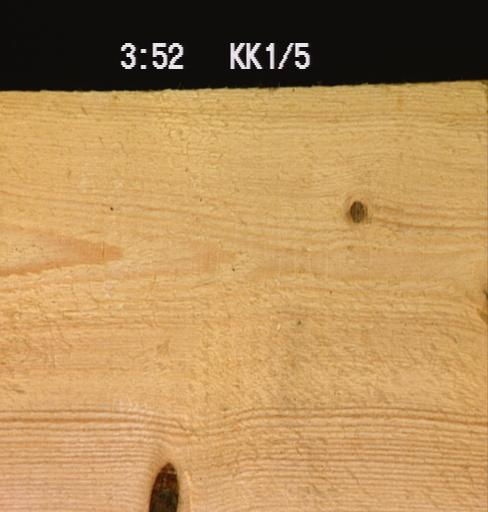sound_knot: (348, 198, 367, 223)
